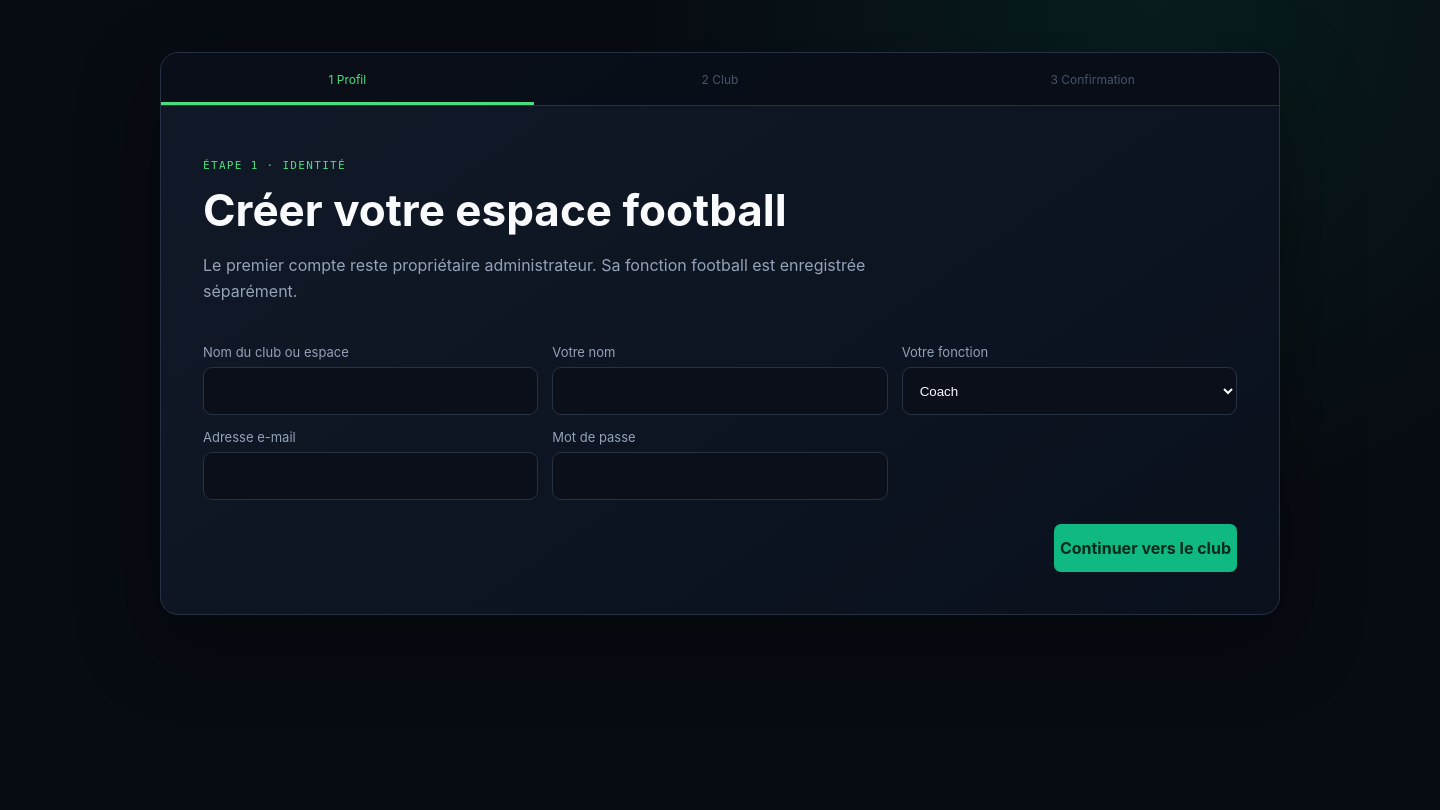
Test: SetupPage › validates password rules and completes bootstrap
Type "StatX Club" into the field labelled "Nom du club ou espace" at [371, 391], box top-left (203, 367), bottom-right (538, 415)
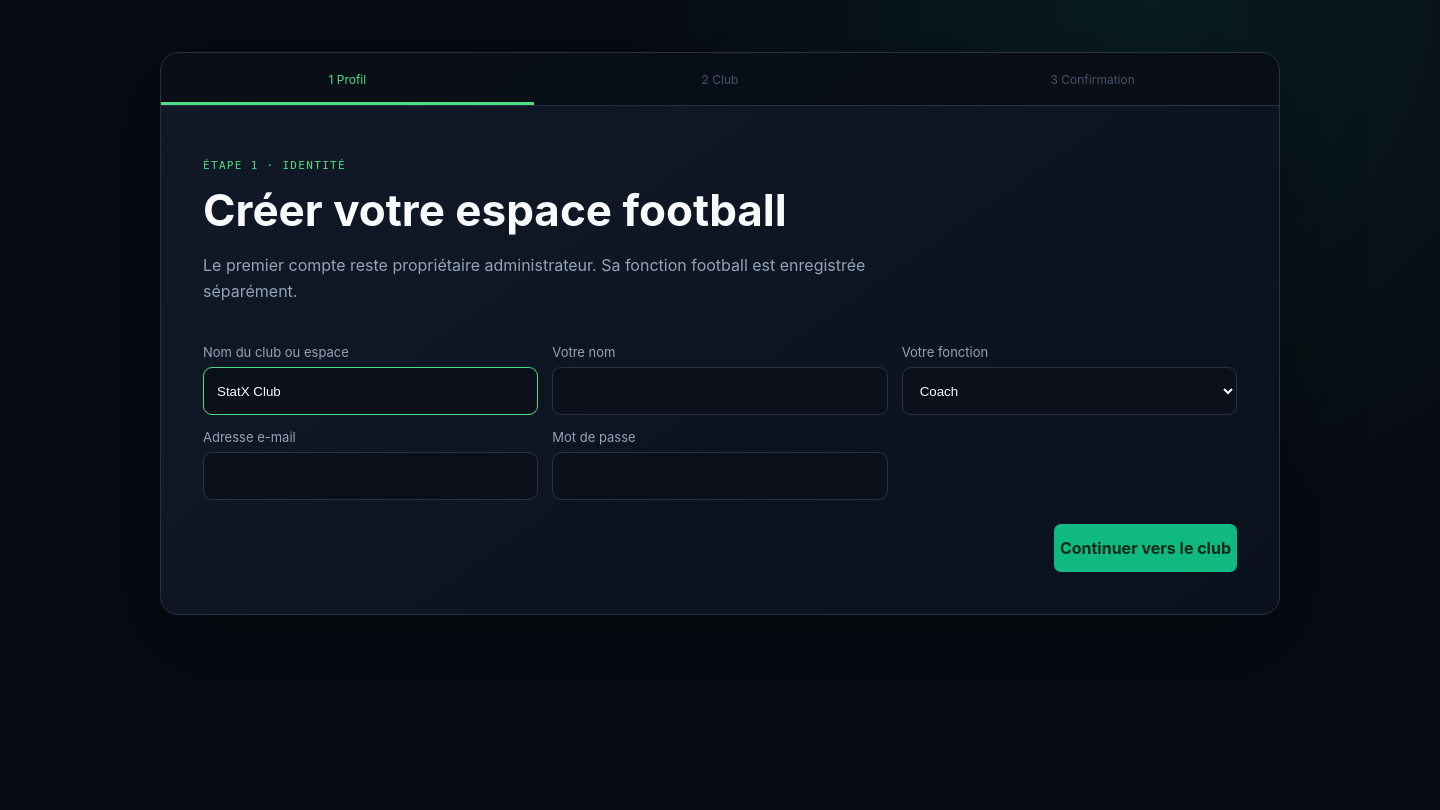
Type "Admin StatX" into the field labelled "Votre nom" at [720, 391], box top-left (552, 367), bottom-right (888, 415)
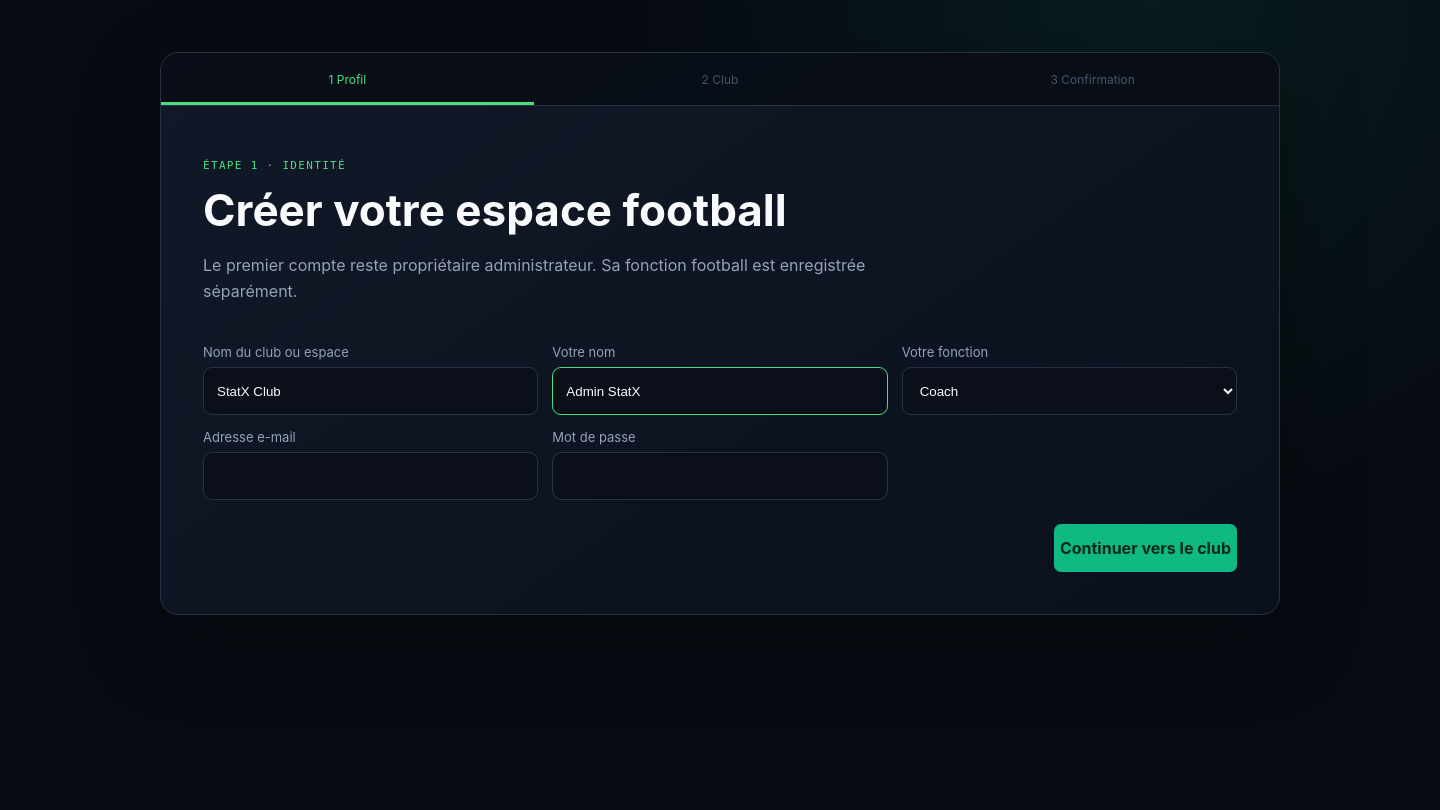
Type "admin@statx.local" into the field labelled "Adresse e-mail" at [371, 476], box top-left (203, 452), bottom-right (538, 500)
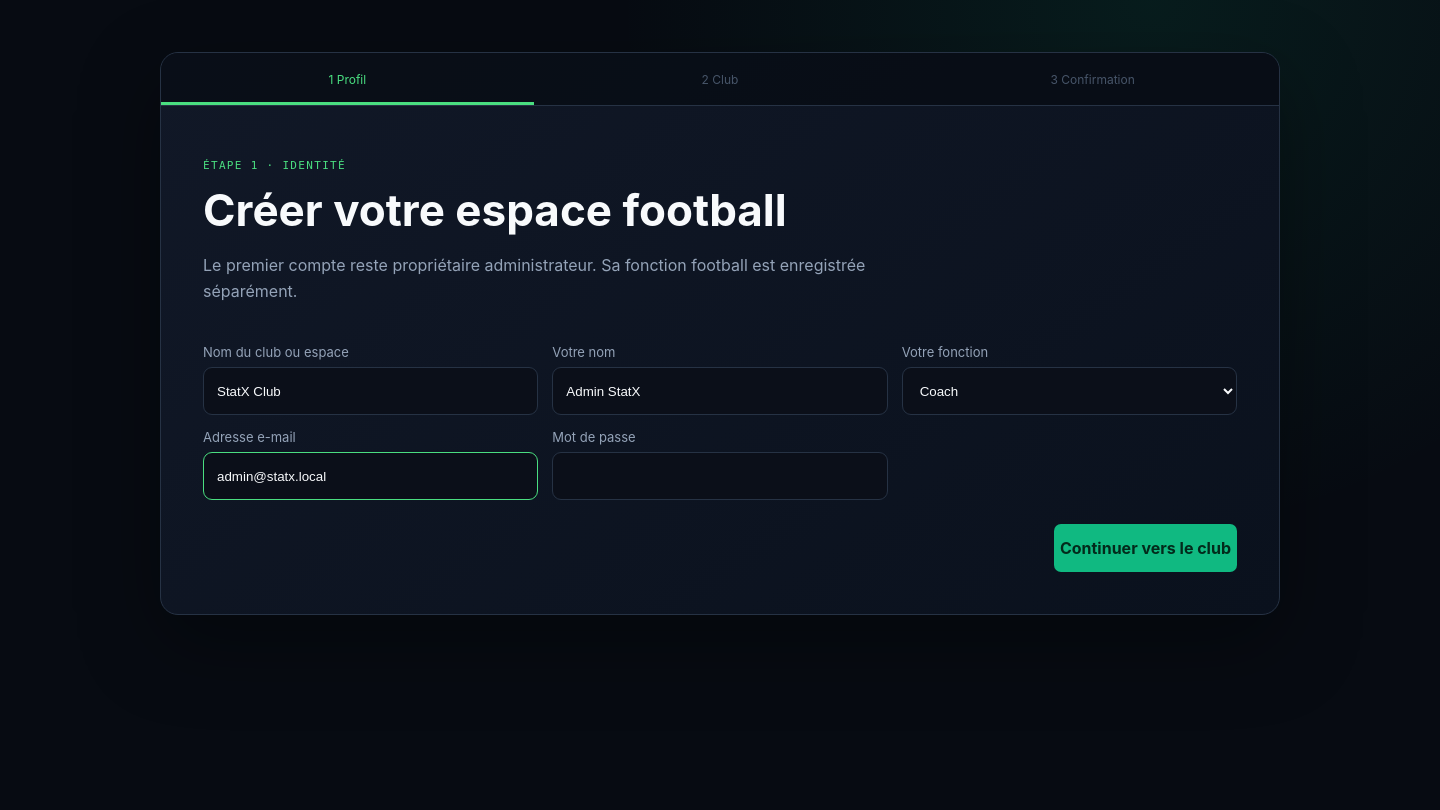
Type "court" into the password field labelled "Mot de passe" at [720, 476], box top-left (552, 452), bottom-right (888, 500)
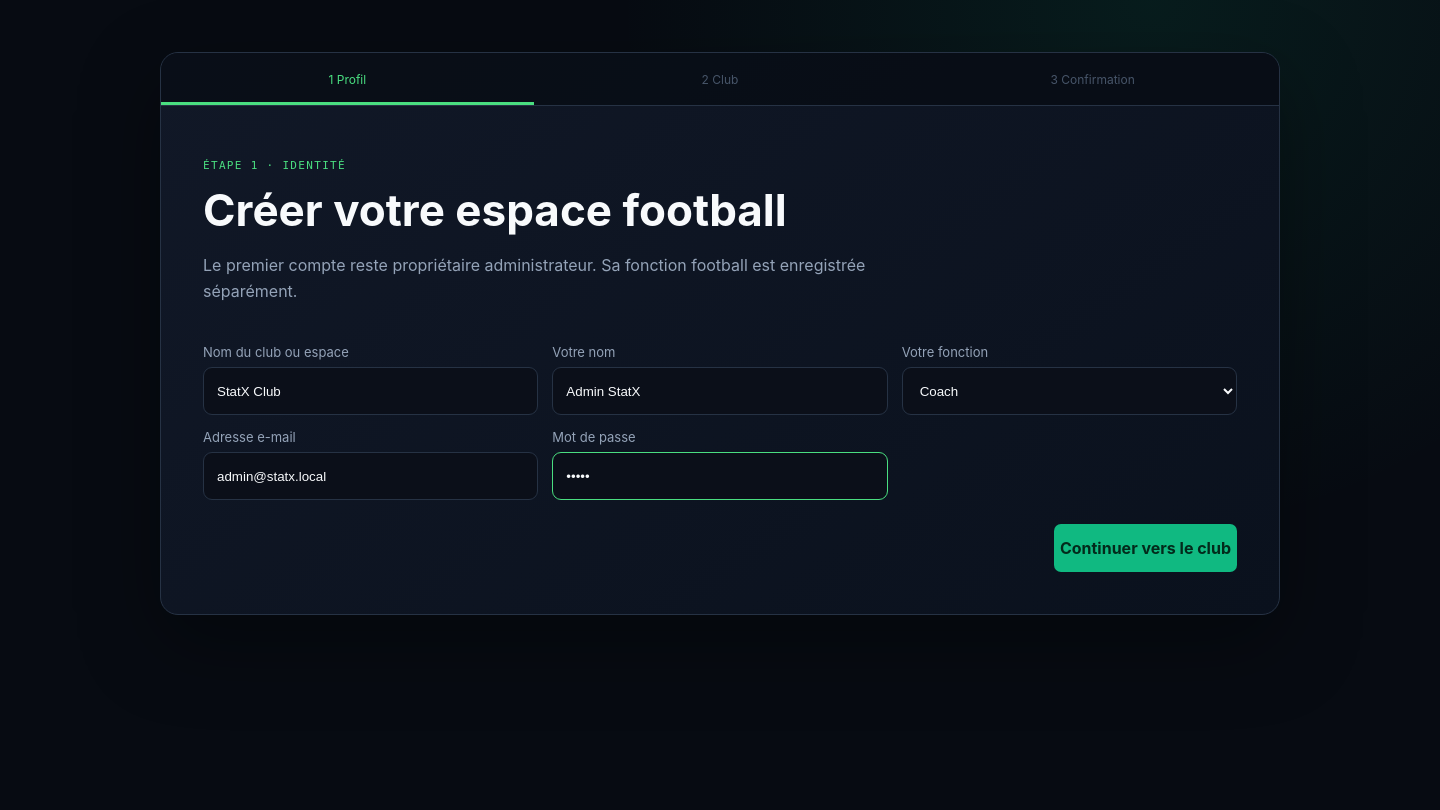
Click the button "Continuer vers le club" at [1145, 548], box top-left (1054, 524), bottom-right (1237, 572)
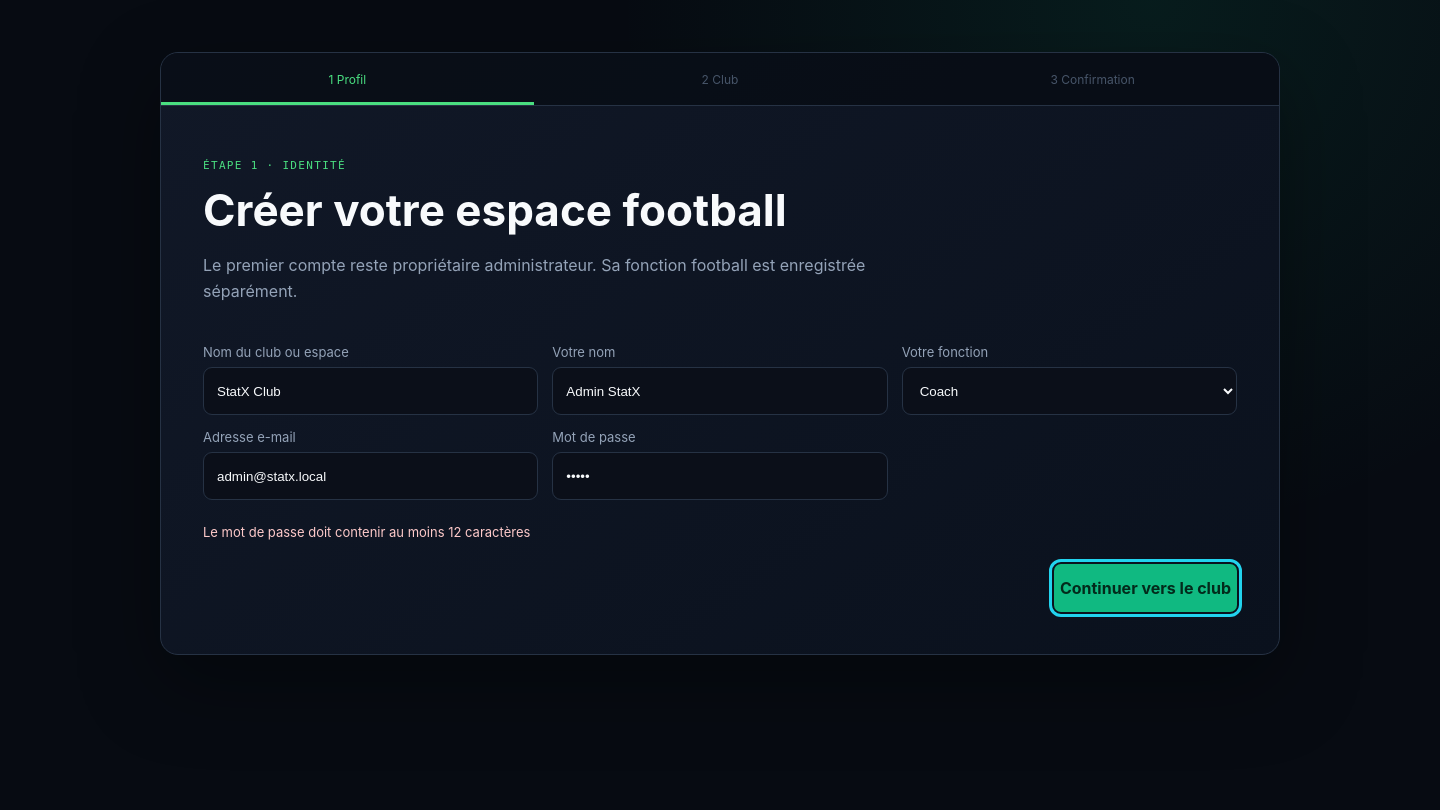
Result: the text "Le mot de passe doit contenir au moins 12 caractères" is shown at top-left (203, 524), bottom-right (530, 540)
